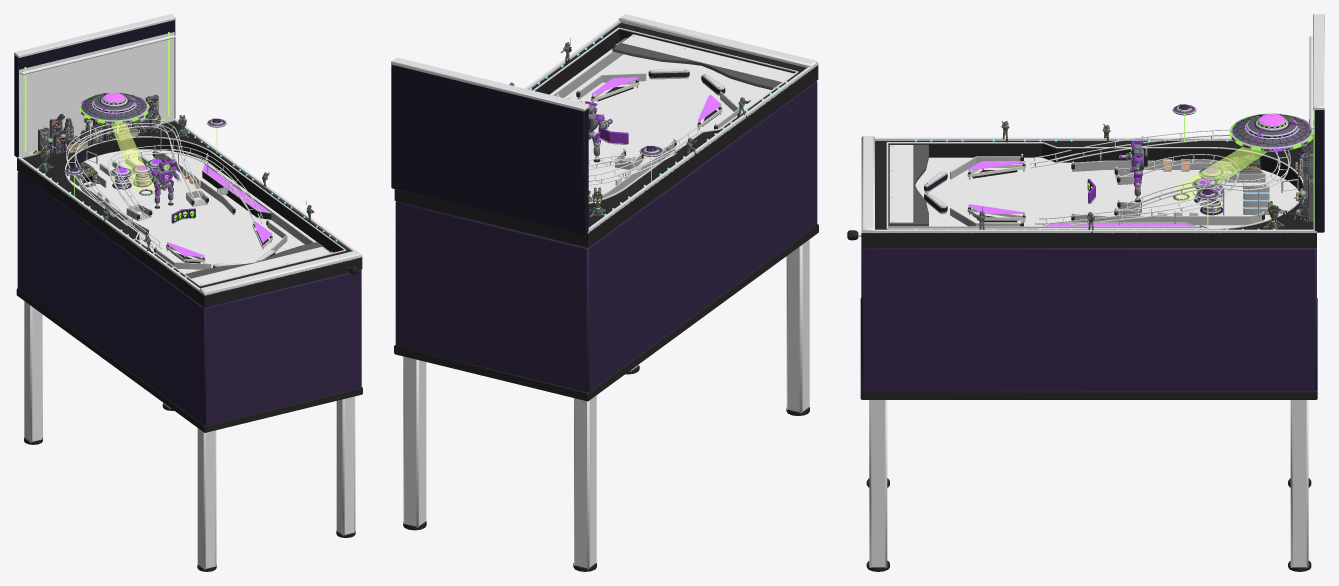
The model's file is table.glb.
3 renders of one model, left to right at view 1: azimuth 30°, elevation 25°; view 2: azimuth 150°, elevation 25°; view 3: azimuth 270°, elevation 25°, orthographic. The views are drawn at different scales.
Visible parts, largest first — view 1: static, playfield, backpanel_art, mothership, mothership_beam, apron_art, backpanel_glow; view 2: static, playfield, apron_art; view 3: static, playfield, mothership, apron_art, mothership_beam.
Part boxes in pixels (x1,y1,x2,y2): static: (14, 14, 362, 571); playfield: (67, 149, 329, 273); backpanel_art: (19, 32, 174, 156); mothership: (81, 92, 147, 123); mothership_beam: (111, 123, 154, 193); apron_art: (191, 247, 330, 284); backpanel_glow: (24, 32, 169, 153); static: (391, 14, 818, 571); playfield: (550, 48, 770, 198); apron_art: (622, 34, 793, 81); static: (860, 14, 1324, 571); playfield: (915, 157, 1299, 228); mothership: (1231, 113, 1312, 151); apron_art: (890, 145, 913, 222); mothership_beam: (1174, 147, 1267, 201).
Size of the model in its own units: 0.6119 by 1.32 by 1.23.
